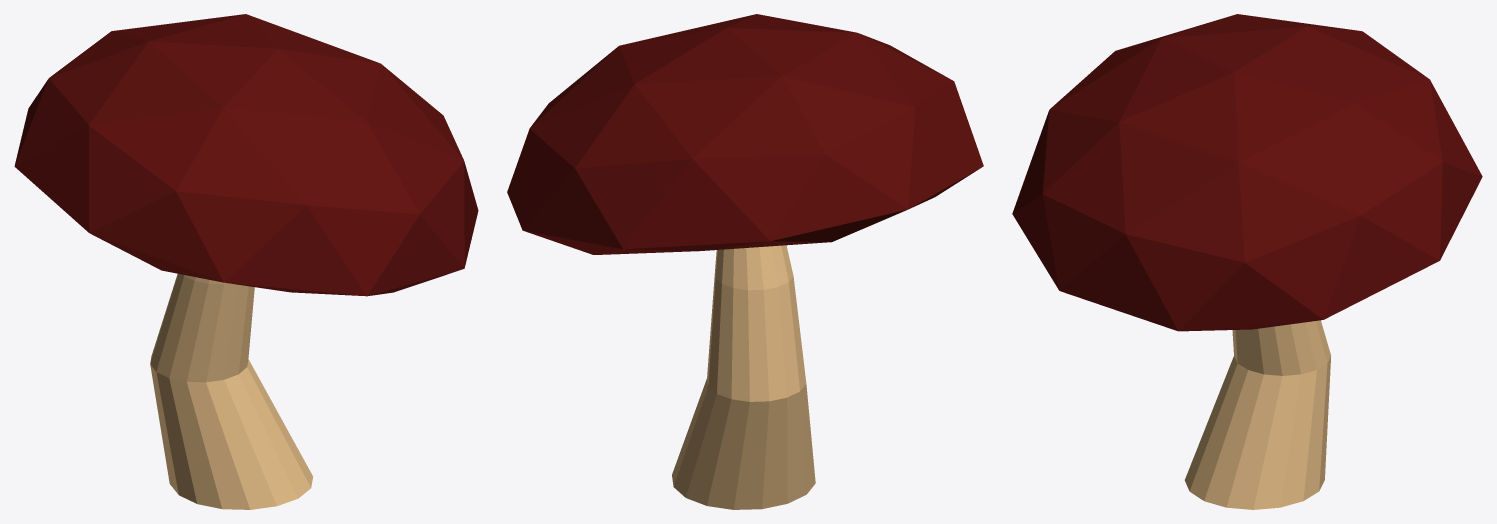
Rendered from Mushroom.fbx.
3 views of the same model, side by side, from view 1: azimuth 30°, elevation 25°; view 2: azimuth 150°, elevation 25°; view 3: azimuth 270°, elevation 25° (orthographic). The views are drawn at different scales.
Visible parts, largest first — view 1: Mushroom; view 2: Mushroom; view 3: Mushroom.
Part boxes in pixels (bbox=[...]): Mushroom: bbox=[14, 14, 478, 509]; Mushroom: bbox=[507, 14, 983, 509]; Mushroom: bbox=[1012, 14, 1482, 509].
Size of the model in its own units: 281 by 296 by 299.
